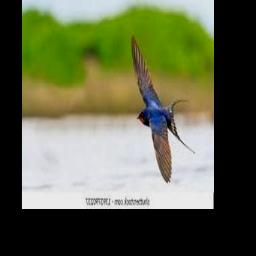Swallow: (131, 33, 196, 183)
